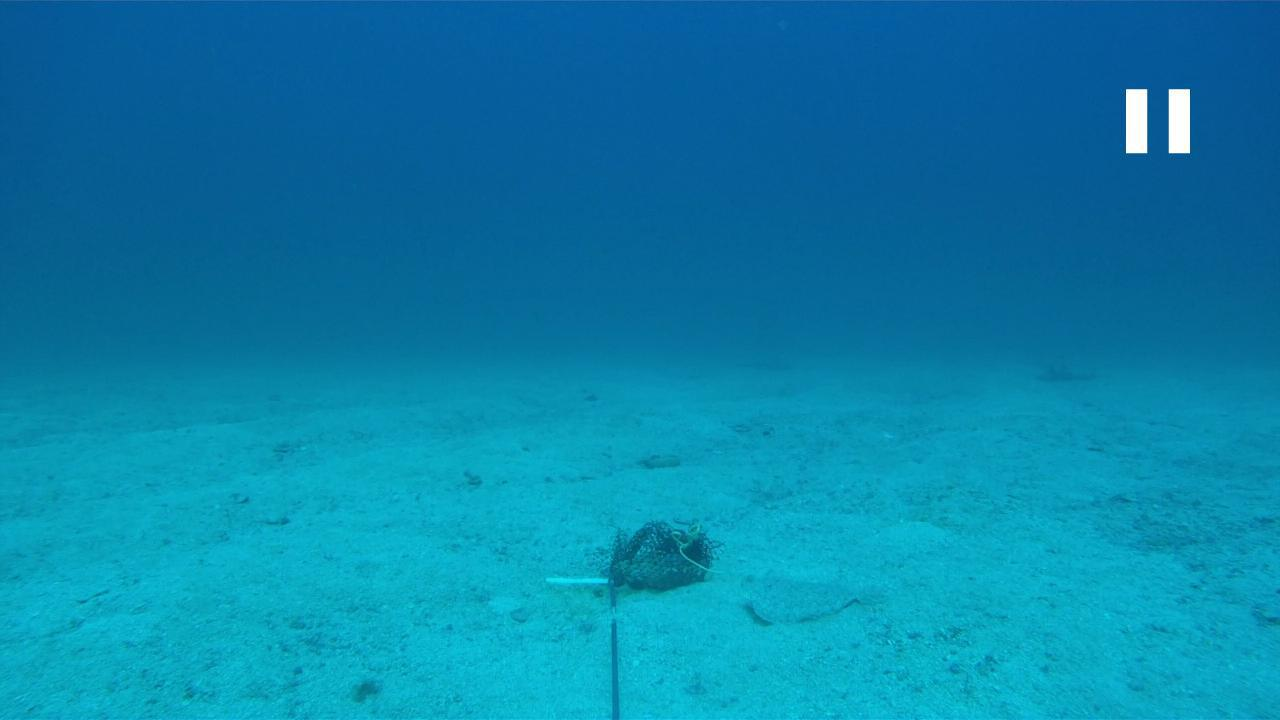bothus: (738, 565, 889, 628)
